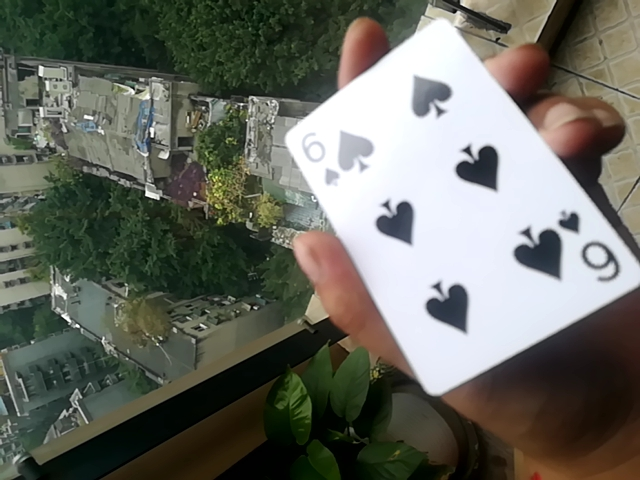ht 6: (277, 15, 640, 405)
